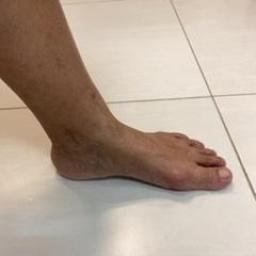Medial View -Left Foot-: (35, 98, 241, 211)
